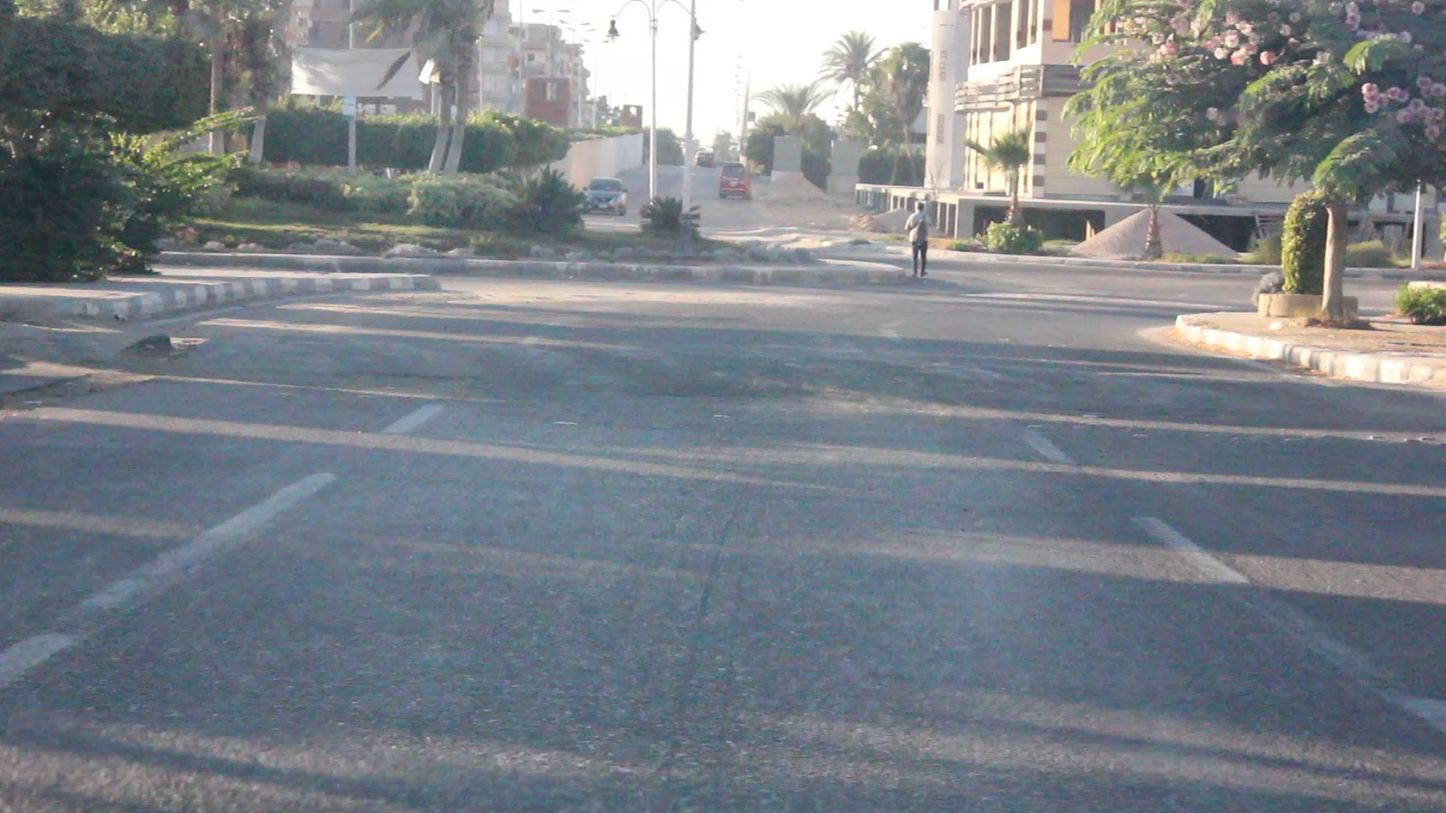Bump: (192, 329, 1354, 416)
